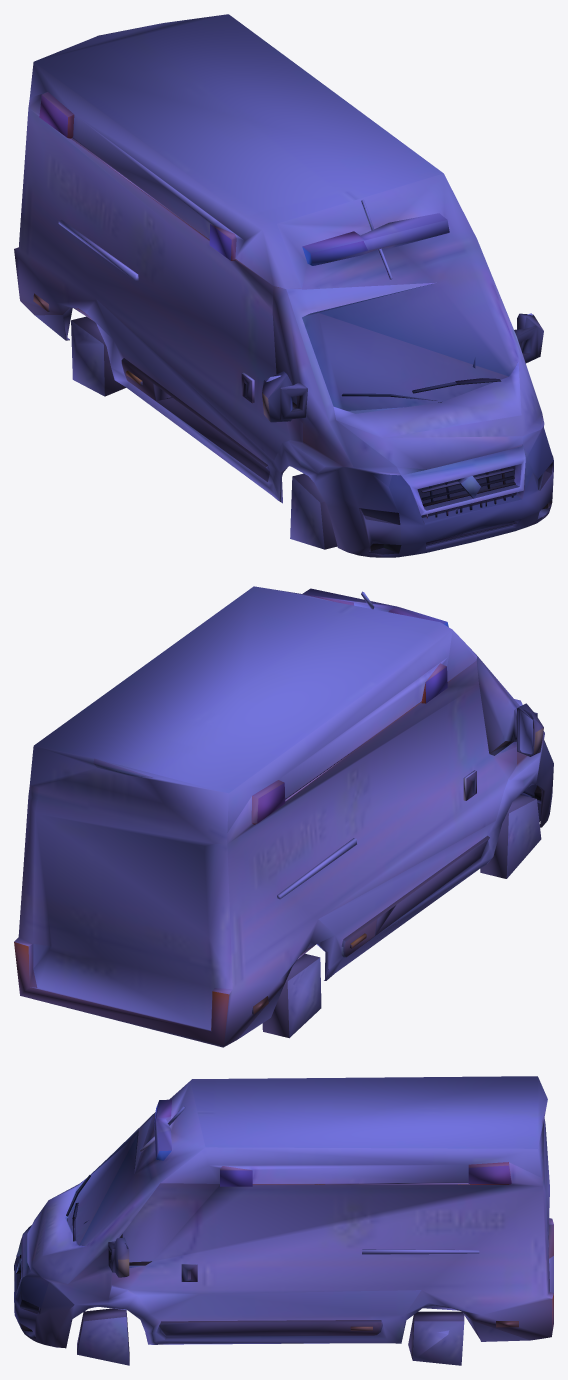
The model's file is model.progressive.glb.
3 renders of one model, top to bottom at view 1: azimuth 30°, elevation 25°; view 2: azimuth 150°, elevation 25°; view 3: azimuth 270°, elevation 25°, orthographic. The views are drawn at different scales.
Visible parts, largest first — view 1: material; view 2: material; view 3: material.
Boxes of the visible parts, <box> form: material: <box>14,14,553,557</box>; material: <box>14,586,553,1047</box>; material: <box>14,1076,553,1365</box>.
Bounding box in the file's own units: 0.8533 × 0.8474 × 1.89.
1 material, 1 textured.
